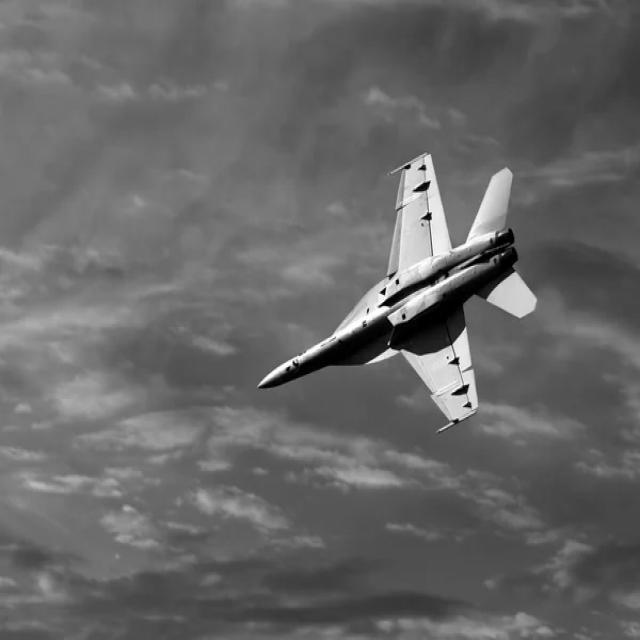Aircraft: (252, 149, 538, 436)
